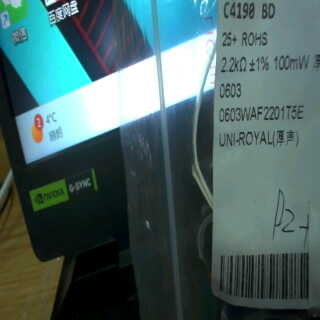2.2kR: (220, 52, 247, 76)
